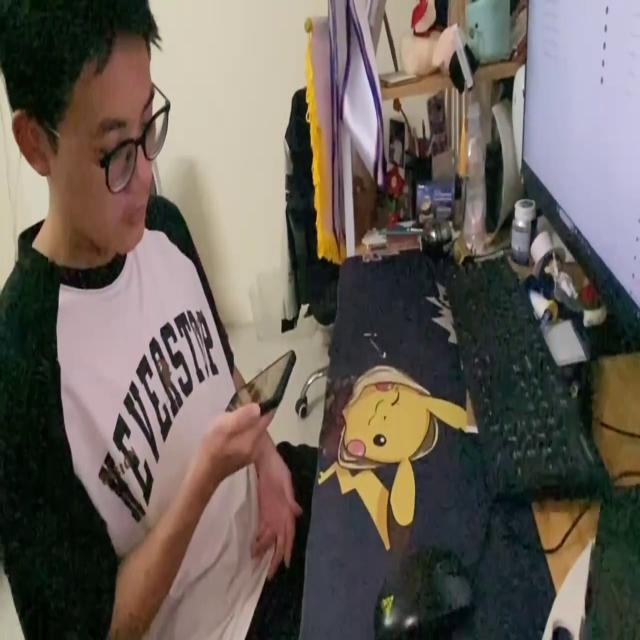laptop: (519, 0, 640, 343)
phone: (221, 346, 296, 418)
student: (1, 2, 312, 634)
